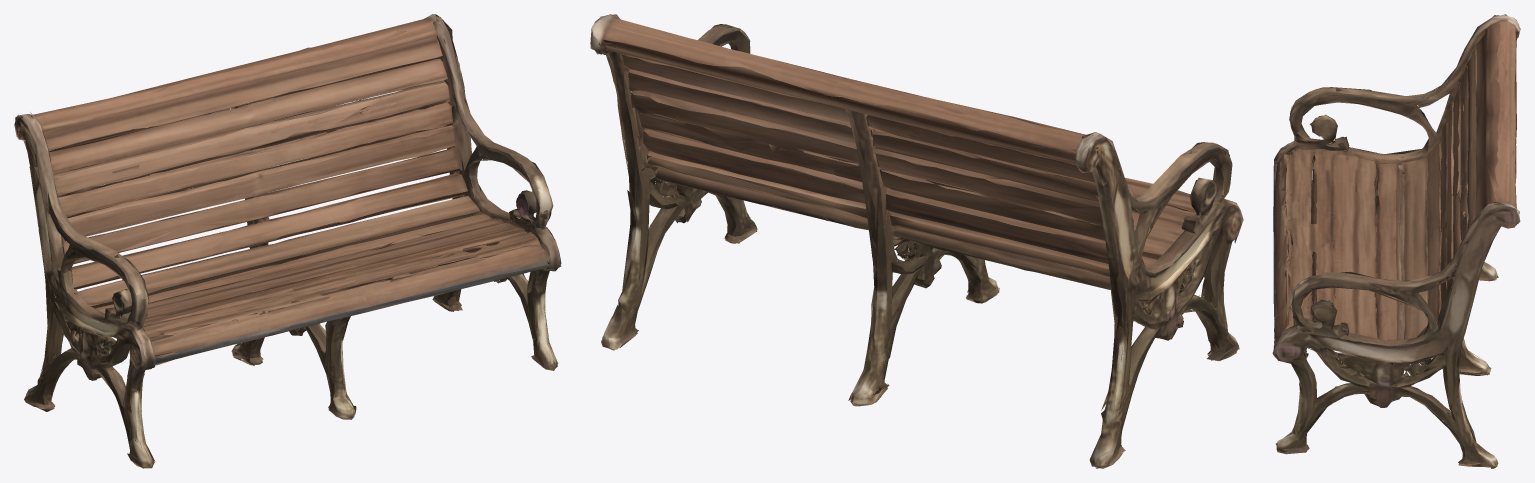
The model's file is unified--bench.glb.
3 renders of one model, left to right at view 1: azimuth 30°, elevation 25°; view 2: azimuth 150°, elevation 25°; view 3: azimuth 270°, elevation 25°, orthographic. The views are drawn at different scales.
Parts seen in each view (by area): view 1: bench-1; view 2: bench-1; view 3: bench-1.
Boxes of the visible parts, x1,y1,x2,y2 form: bench-1: (14, 14, 561, 468); bench-1: (590, 14, 1243, 468); bench-1: (1272, 14, 1520, 468).
Size of the model in its own units: 3.37 by 2.13 by 1.81.
Materials: 1 (1 with a texture image).
